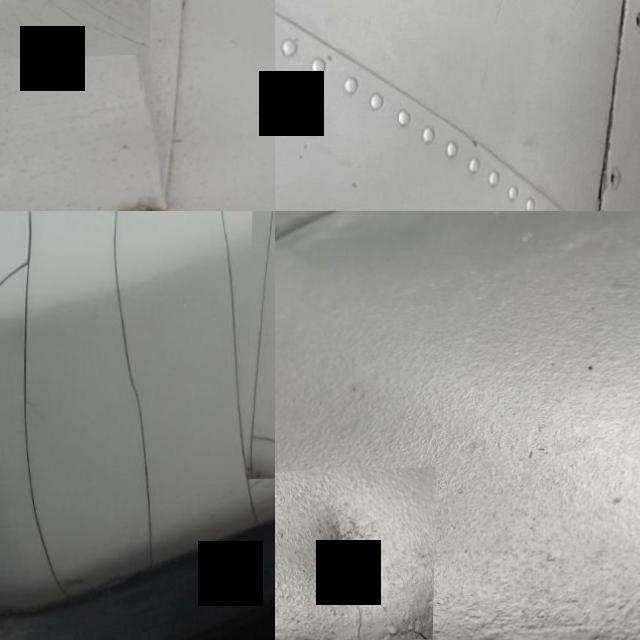Crack: (0, 211, 77, 600), (112, 211, 158, 574), (218, 211, 263, 530), (0, 0, 153, 65), (249, 211, 275, 482)
Dent: (275, 469, 438, 640)
Missing_Fastener: (610, 172, 620, 192), (634, 13, 640, 31)
